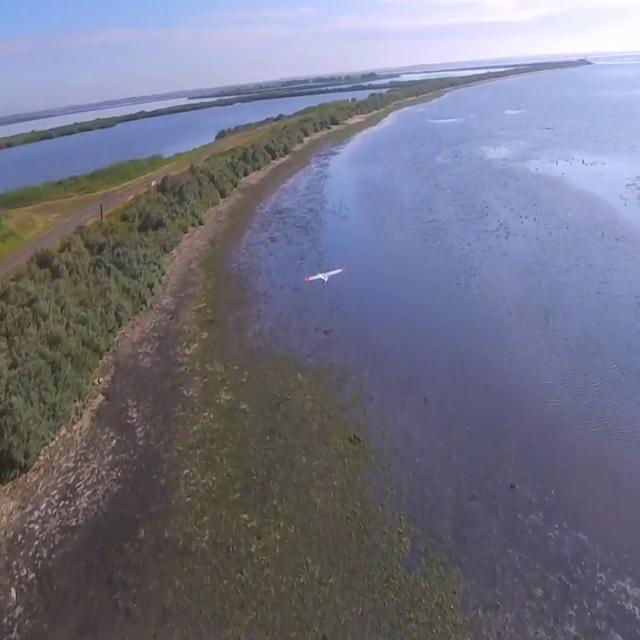iha: (304, 266, 344, 290)
